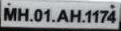character: (3, 6, 16, 21), (55, 8, 68, 22), (69, 8, 81, 23), (105, 9, 117, 24), (17, 7, 28, 22), (33, 8, 43, 22), (99, 9, 108, 24), (43, 7, 50, 22), (84, 9, 91, 23), (92, 9, 98, 24)
